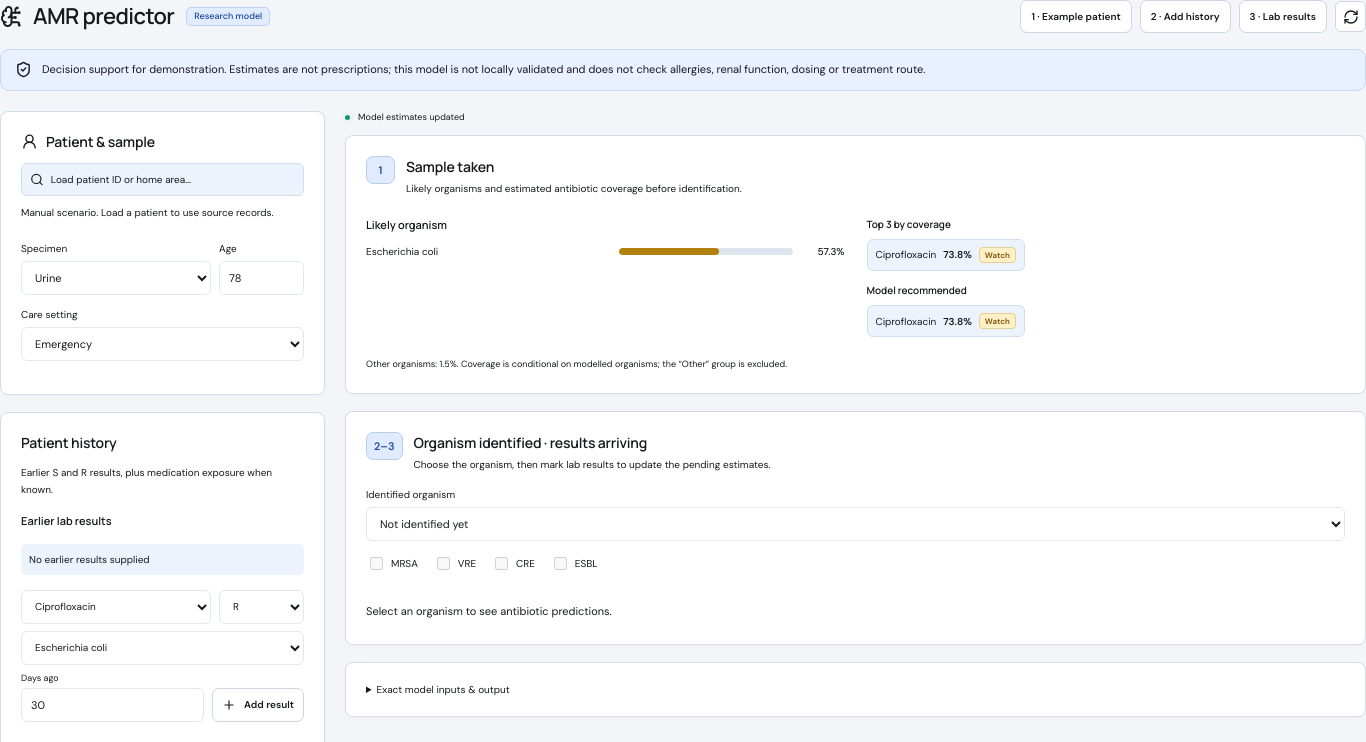
Test case: AMR predictor page › runs all demo scenarios with the archive input structure
Check: the text "57.3%" is shown, box [818, 245, 844, 258]
Click the button "2 · Add history" at (1185,16), box [1140, 0, 1231, 33]
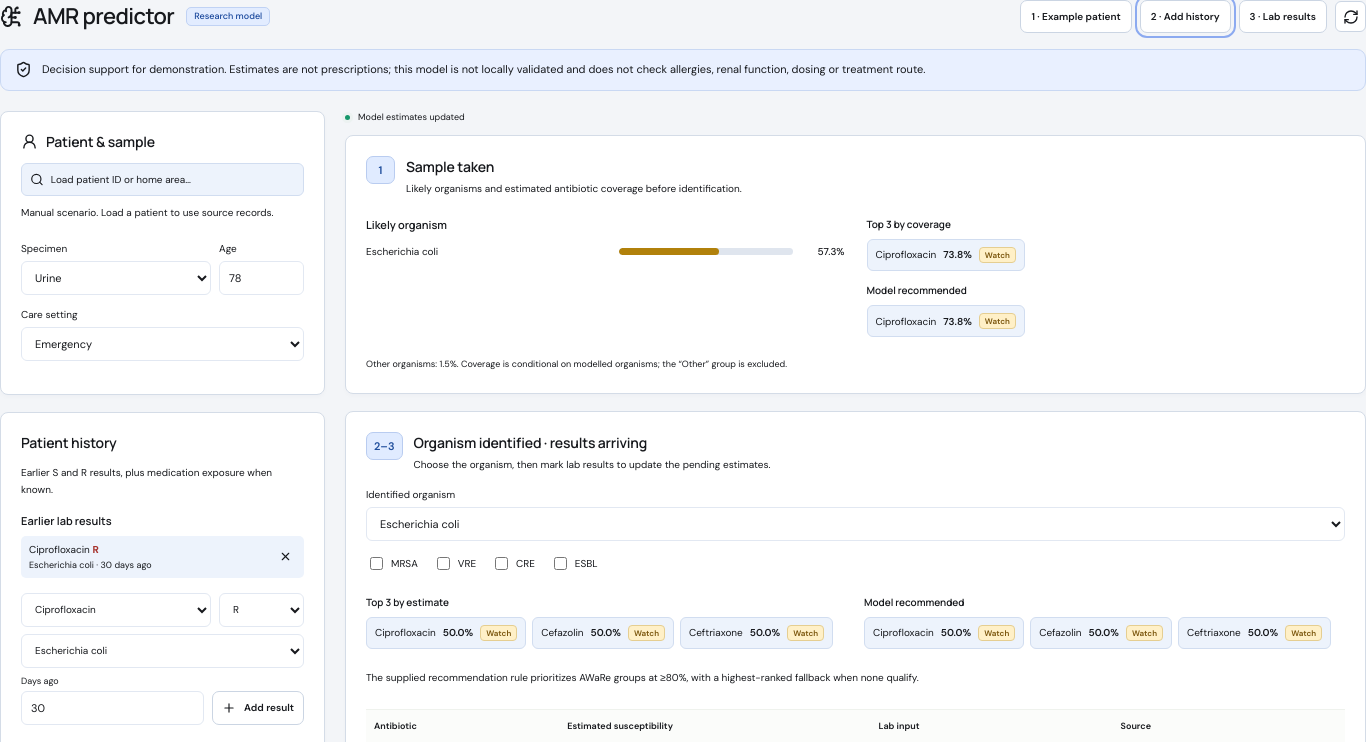
Click the button "3 · Lab results" at (1283,16), box [1239, 0, 1327, 33]
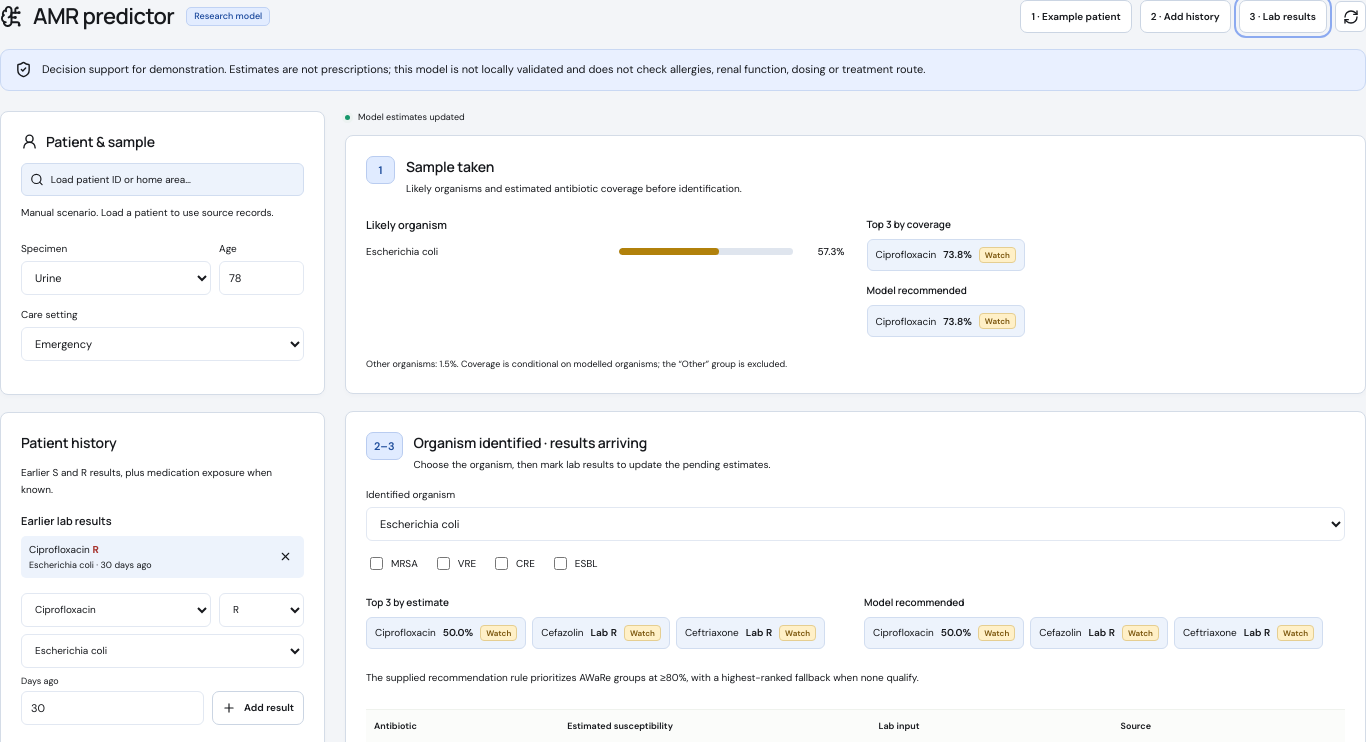
Click the button named "Reset predictor" at (1350,16), box [1335, 1, 1365, 32]
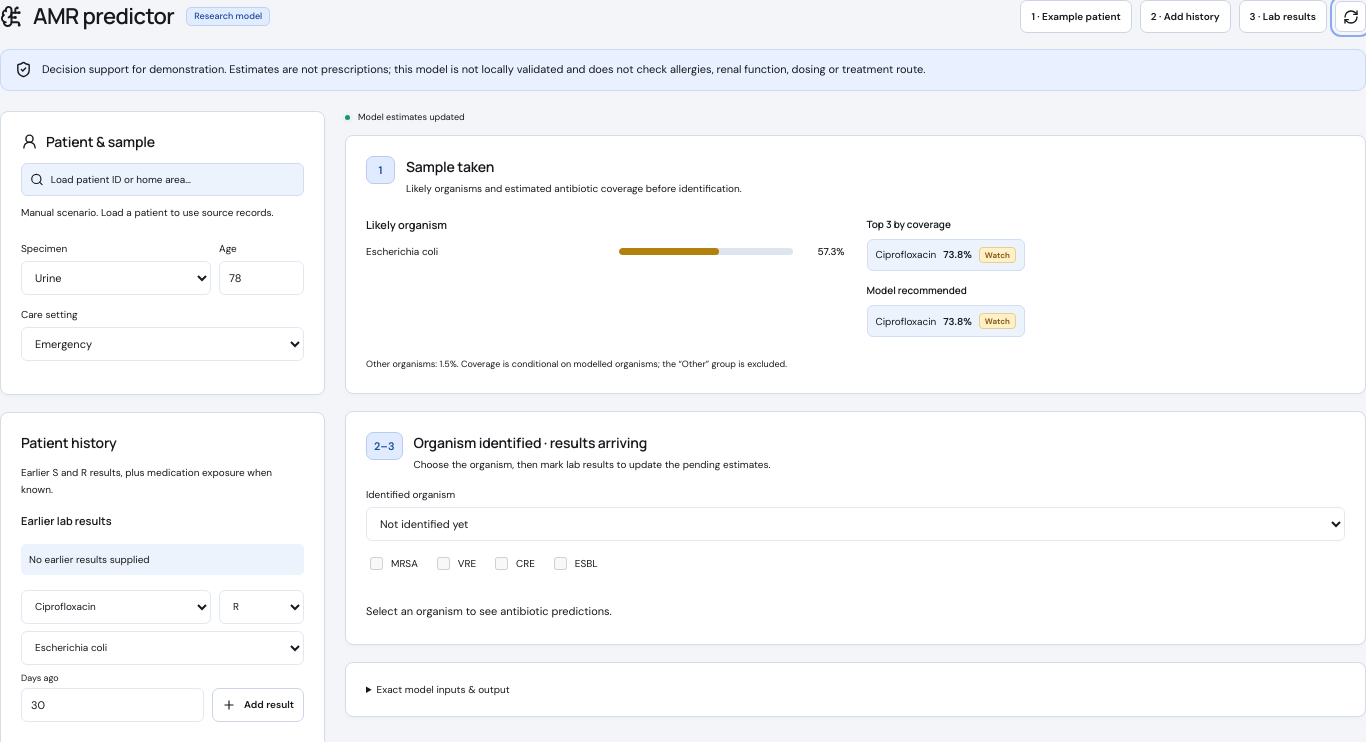
Check: the text "Select an organism to see antibiotic predictions." is shown, box [366, 604, 612, 618]
